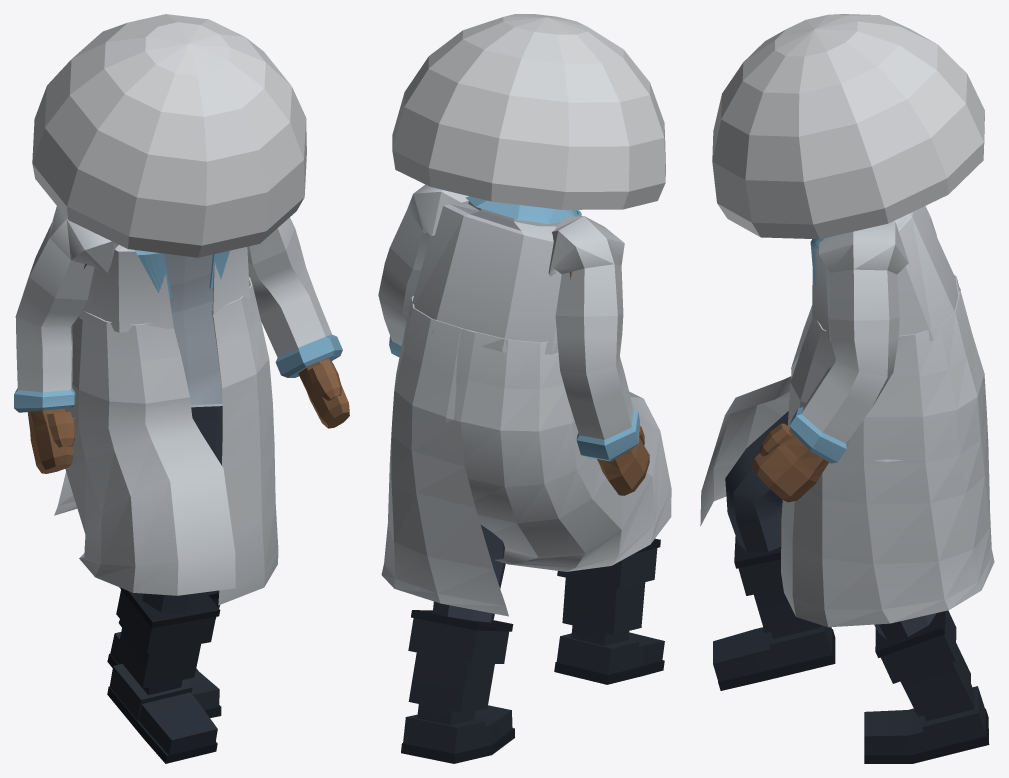
File: city-commuter-52a53f__walk3.glb
3 renders of one model, left to right at view 1: azimuth 30°, elevation 25°; view 2: azimuth 150°, elevation 25°; view 3: azimuth 270°, elevation 25°, orthographic.
Parts seen in each view (by area): view 1: city-commuter-52a53f__walk3; view 2: city-commuter-52a53f__walk3; view 3: city-commuter-52a53f__walk3.
Boxes of the visible parts, x1,y1,x2,y2 form: city-commuter-52a53f__walk3: (14, 14, 349, 763); city-commuter-52a53f__walk3: (378, 14, 671, 763); city-commuter-52a53f__walk3: (700, 14, 994, 763).
Bounding box in the file's own units: 0.7833 × 1.85 × 0.6942.
